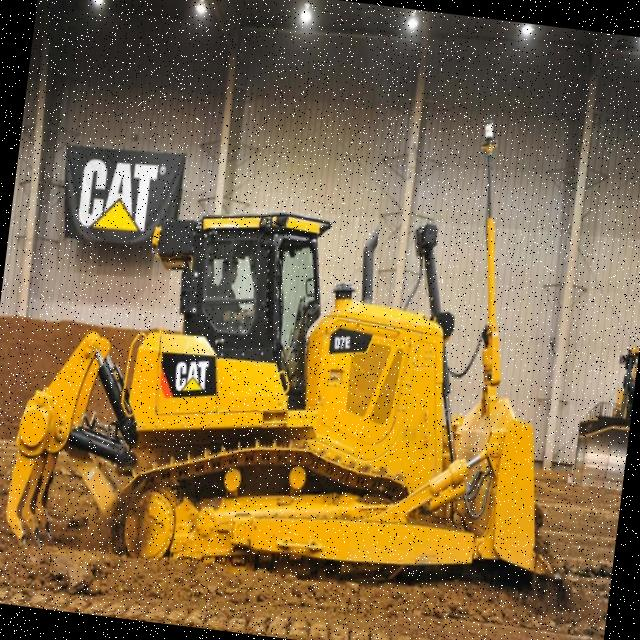Bulldozer: (0, 147, 608, 622)
